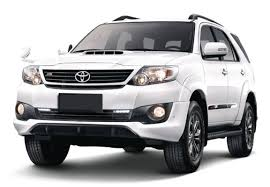pickup: (13, 12, 260, 175)
